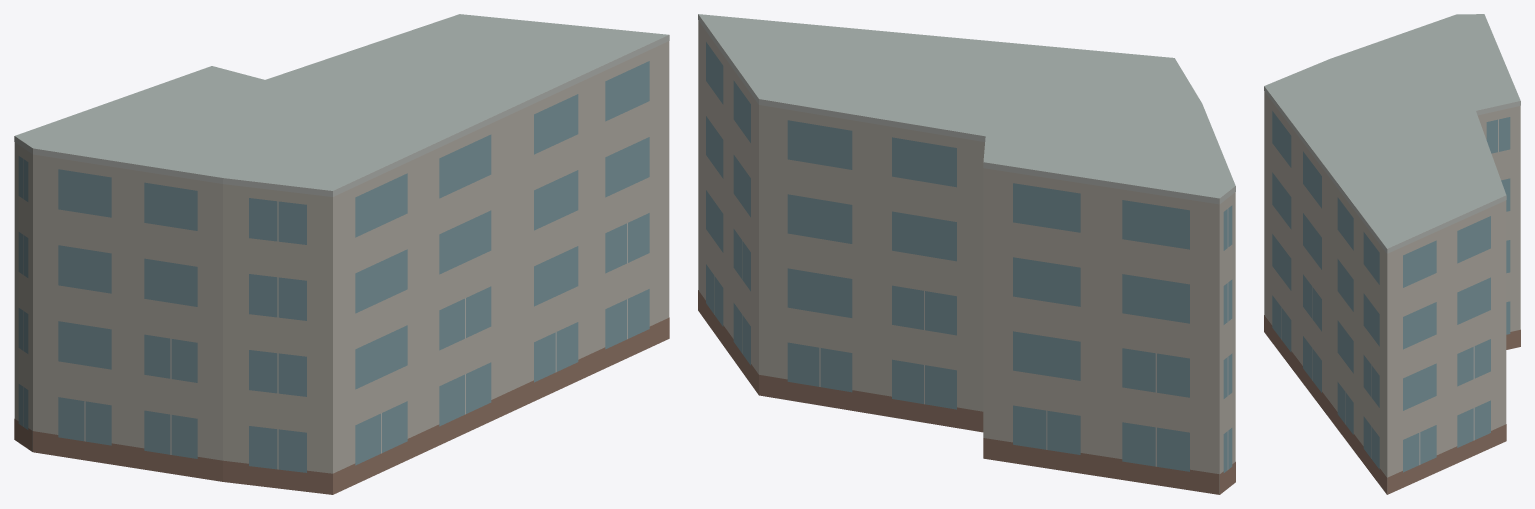
File: survey-upis-32668897.glb
The picture shows the model from 3 angles, left to right: view 1: azimuth 30°, elevation 25°; view 2: azimuth 150°, elevation 25°; view 3: azimuth 270°, elevation 25°; orthographic projection. The views are drawn at different scales.
Parts seen in each view (by area): view 1: survey-upis-32668897.tmp; view 2: survey-upis-32668897.tmp; view 3: survey-upis-32668897.tmp.
Boxes of the visible parts, bbox=[...] form: survey-upis-32668897.tmp: bbox=[14, 14, 669, 494]; survey-upis-32668897.tmp: bbox=[698, 14, 1235, 494]; survey-upis-32668897.tmp: bbox=[1264, 14, 1520, 494].
Bounding box in the file's own units: 25 × 12.2 × 11.55.
